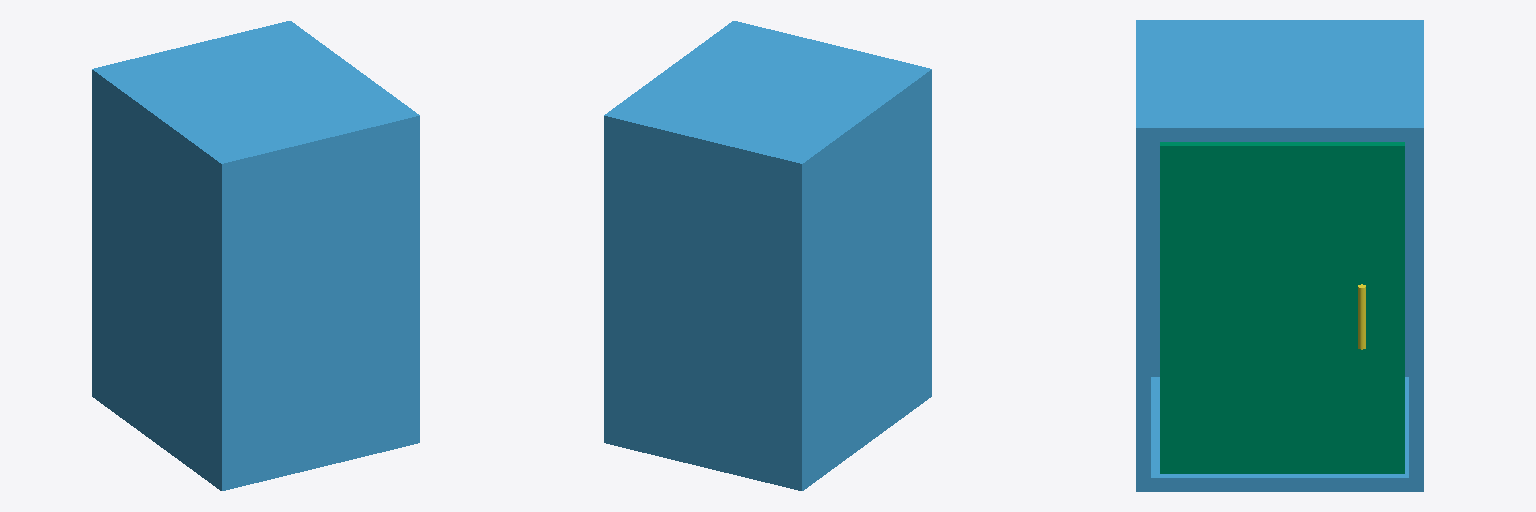
robot.urdf — my_cabinet:
<?xml version="1.0" ?>
<robot name="my_cabinet">
	<link name="world"/>
	<joint name="virtual_joint" type="fixed">
		<parent link="world"/>
		<child link="base_cabinet_link"/>
		<origin xyz="0.0 0.0 0.0" rpy="0.0 0.0 0.0"/>
	</joint>
	<link name="base_cabinet_link">
		<visual>
			<origin xyz="0.0 -0.0025 -0.22724218512454808" rpy="0.0 0.0 0.0"/>
			<geometry>
				<box size="0.3 0.33974495962934176 0.018"/>
			</geometry>
		</visual>
		<collision name="base_cabinet_link_collision_0">
			<origin xyz="0.0 -0.0025 -0.22724218512454808" rpy="0.0 0.0 0.0"/>
			<geometry>
				<box size="0.3 0.33974495962934176 0.018"/>
			</geometry>
		</collision>
		<visual>
			<origin xyz="0.0 0.1583724798146709 0.0" rpy="0.0 0.0 0.0"/>
			<geometry>
				<box size="0.3 0.018 0.4724843702490962"/>
			</geometry>
		</visual>
		<collision name="base_cabinet_link_collision_1">
			<origin xyz="0.0 0.1583724798146709 0.0" rpy="0.0 0.0 0.0"/>
			<geometry>
				<box size="0.3 0.018 0.4724843702490962"/>
			</geometry>
		</collision>
		<visual>
			<origin xyz="0.0 -0.1633724798146709 0.0" rpy="0.0 0.0 0.0"/>
			<geometry>
				<box size="0.3 0.018 0.4724843702490962"/>
			</geometry>
		</visual>
		<collision name="base_cabinet_link_collision_2">
			<origin xyz="0.0 -0.1633724798146709 0.0" rpy="0.0 0.0 0.0"/>
			<geometry>
				<box size="0.3 0.018 0.4724843702490962"/>
			</geometry>
		</collision>
		<visual>
			<origin xyz="0.0 -0.0025 0.22724218512454808" rpy="0.0 0.0 0.0"/>
			<geometry>
				<box size="0.3 0.33974495962934176 0.018"/>
			</geometry>
		</visual>
		<collision name="base_cabinet_link_collision_3">
			<origin xyz="0.0 -0.0025 0.22724218512454808" rpy="0.0 0.0 0.0"/>
			<geometry>
				<box size="0.3 0.33974495962934176 0.018"/>
			</geometry>
		</collision>
		<visual>
			<origin xyz="-0.141 -0.0025 0.0" rpy="0.0 0.0 0.0"/>
			<geometry>
				<box size="0.018 0.33974495962934176 0.4724843702490962"/>
			</geometry>
		</visual>
		<collision name="base_cabinet_link_collision_4">
			<origin xyz="-0.141 -0.0025 0.0" rpy="0.0 0.0 0.0"/>
			<geometry>
				<box size="0.018 0.33974495962934176 0.4724843702490962"/>
			</geometry>
		</collision>
		<inertial>
			<mass value="0.200000"/>
			<inertia ixx="0.005644" ixy="0.0" ixz="0.0" iyy="0.005221" iyz="0.0" izz="0.003424"/>
		</inertial>
	</link>
	<link name="door_link">
		<visual>
			<origin xyz="0.0 -0.14437247981467088 0.0"/>
			<geometry>
				<box size="0.018 0.28874495962934177 0.42648437024909613"/>
			</geometry>
		</visual>
		<collision name="door_link_collision">
			<origin xyz="0.0 -0.14437247981467088 0.0"/>
			<geometry>
				<box size="0.018 0.28874495962934177 0.42648437024909613"/>
			</geometry>
		</collision>
		<inertial>
			<mass value="0.200000"/>
			<inertia ixx="0.004421" ixy="0.0" ixz="0.0" iyy="0.003037" iyz="0.0" izz="0.001395"/>
		</inertial>
	</link>
	<joint name="door_joint" type="revolute">
		<origin xyz="0.141 -0.14437247981467088 0.0" rpy="0.000000 -0.000000 3.141593"/>
		<axis xyz="0 0 1"/>
		<parent link="base_cabinet_link"/>
		<child link="door_link"/>
		<limit effort="50" lower="-1.658062789394613" upper="0" velocity="10"/>
		<dynamics friction="3.5" damping="3.5"/>
	</joint>
	<link name="handle_link">
		<visual>
			<origin xyz="0.0 0.0 0.0" rpy="0.0 0.0 0.0"/>
			<geometry>
				<cylinder length="0.08" radius="0.005"/>
			</geometry>
		</visual>
		<collision name="handle_link_collision_0">
			<origin xyz="0.0 0.0 0.0" rpy="0.0 0.0 0.0"/>
			<geometry>
				<cylinder length="0.08" radius="0.005"/>
			</geometry>
		</collision>
		<visual>
			<origin xyz="-0.01 0.0 0.02" rpy="0.0 1.5707963267948966 0.0"/>
			<geometry>
				<cylinder length="0.02" radius="0.003"/>
			</geometry>
		</visual>
		<collision name="handle_link_collision_1">
			<origin xyz="-0.01 0.0 0.02" rpy="0.0 1.5707963267948966 0.0"/>
			<geometry>
				<cylinder length="0.01" radius="0.003"/>
			</geometry>
		</collision>
		<visual>
			<origin xyz="-0.01 0.0 -0.02" rpy="0.0 1.5707963267948966 0.0"/>
			<geometry>
				<cylinder length="0.02" radius="0.003"/>
			</geometry>
		</visual>
		<collision name="handle_link_collision_2">
			<origin xyz="-0.01 0.0 -0.02" rpy="0.0 1.5707963267948966 0.0"/>
			<geometry>
				<cylinder length="0.02" radius="0.003"/>
			</geometry>
		</collision>
		<inertial>
			<mass value="0.050000"/>
			<inertia ixx="0.000027" ixy="0.0" ixz="0.0" iyy="0.000029" iyz="0.0" izz="0.000003"/>
		</inertial>
	</link>
	<joint name="handle_joint" type="fixed">
		<origin xyz="-0.028999999999999998 -0.23874495962934178 0.0" rpy="0.000000 -0.000000 3.141593"/>
		<parent link="door_link"/>
		<child link="handle_link"/>
	</joint>
	<gazebo reference="base_cabinet_link">
		<sensor name="main_sensor" type="contact">
			<selfCollide>true</selfCollide>
			<alwaysOn>true</alwaysOn>
			<updateRate>5.0</updateRate>
			<material>Gazebo/Red</material>
			<contact>
				<collision>base_cabinet_link_collision_0_collision</collision>
				<collision>base_cabinet_link_collision_1_collision</collision>
				<collision>base_cabinet_link_collision_2_collision</collision>
				<collision>base_cabinet_link_collision_3_collision</collision>
				<collision>base_cabinet_link_collision_4_collision</collision>
			</contact>
			<plugin name="gazebo_ros_bumper_controller" filename="libgazebo_ros_bumper.so">
				<bumperTopicName>/contact</bumperTopicName>
				<frameName>world</frameName>
			</plugin>
		</sensor>
	</gazebo>
	<gazebo reference="door_link">
		<sensor name="main_sensor" type="contact">
			<selfCollide>true</selfCollide>
			<alwaysOn>true</alwaysOn>
			<updateRate>5.0</updateRate>
			<material>Gazebo/Red</material>
			<contact>
				<collision>door_link_collision_collision</collision>
			</contact>
			<plugin name="gazebo_ros_bumper_controller" filename="libgazebo_ros_bumper.so">
				<bumperTopicName>/contact_door</bumperTopicName>
				<frameName>contact_door</frameName>
			</plugin>
		</sensor>
	</gazebo>
	<gazebo reference="door_link">
		<mu>3.0</mu>
		<mu2>3.0</mu2>
		<kp>10000000</kp>
		<kd>100</kd>
	</gazebo>
</robot>

--- Render facts (derived) ---
The picture shows the robot from 3 angles, left to right: view 1: azimuth 30°, elevation 25°; view 2: azimuth 150°, elevation 25°; view 3: azimuth 270°, elevation 25°; orthographic projection.
Robot: my_cabinet — 4 links, 3 joints (1 revolute, 2 fixed); root link world; default pose: every joint at zero.
Visible links, largest first — view 1: base_cabinet_link; view 2: base_cabinet_link; view 3: door_link, base_cabinet_link.
Link boxes in pixels (x1,y1,x2,y2): base_cabinet_link: (92,21,419,490); base_cabinet_link: (604,21,931,490); door_link: (1160,142,1404,473); base_cabinet_link: (1136,20,1423,491).
Size in the robot's own frame: 0.325 by 0.3397 by 0.4725 metres.
Geometry: primitives only (box / cylinder / sphere), no mesh files.
